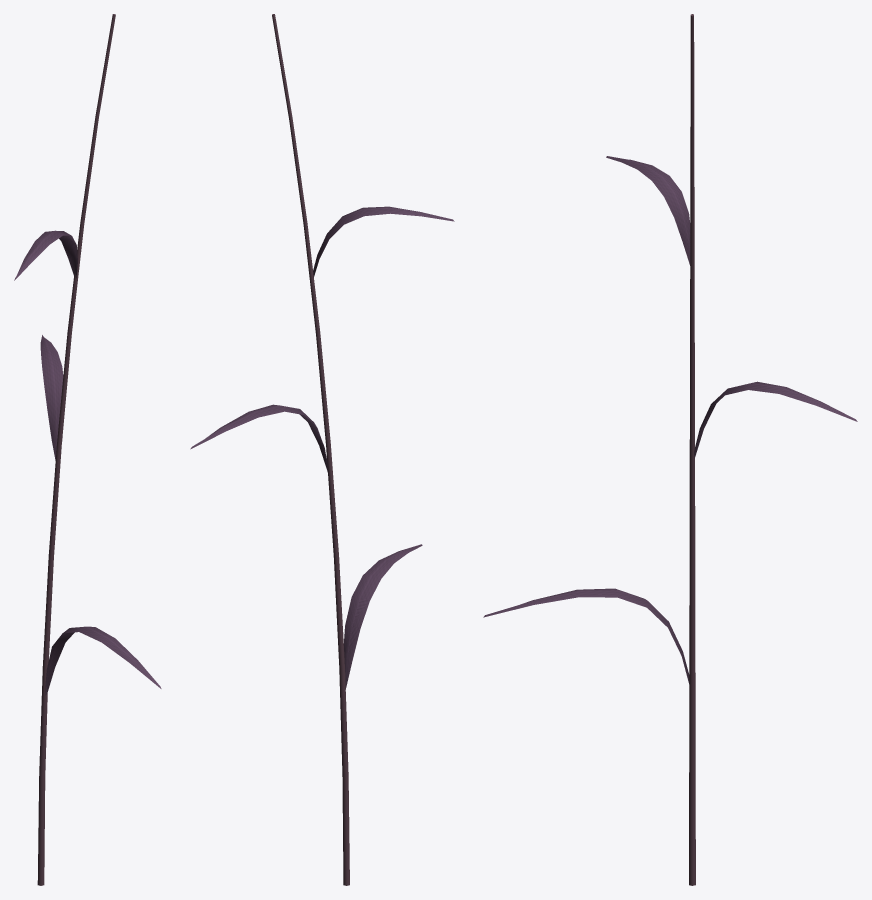
Rendered from single_stem_05.glb.
3 renders of one model, left to right at view 1: azimuth 30°, elevation 25°; view 2: azimuth 150°, elevation 25°; view 3: azimuth 270°, elevation 25°, orthographic. The views are drawn at different scales.
Visible parts, largest first — view 1: export; view 2: export; view 3: export.
Boxes of the visible parts, x1,y1,x2,y2 form: export: (14, 14, 161, 885); export: (190, 14, 454, 885); export: (483, 14, 857, 885).
Size of the model in its own units: 0.1797 by 1 by 0.3745.
2 materials, 2 textured.
